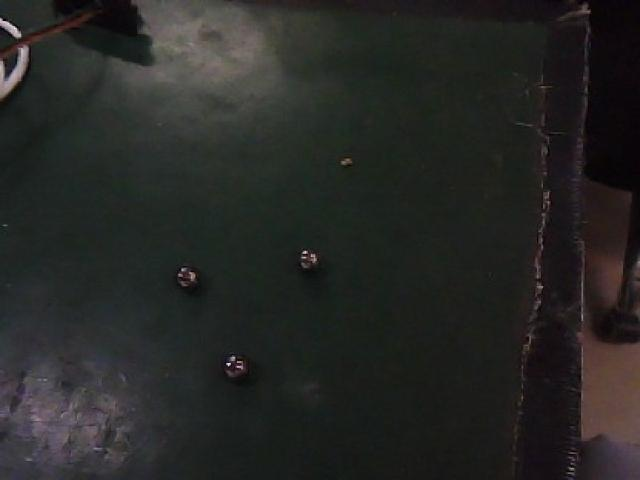steel-ball: (210, 337, 262, 391), (283, 235, 331, 283), (154, 252, 209, 291)
